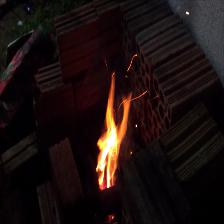fire: (81, 57, 152, 199)
